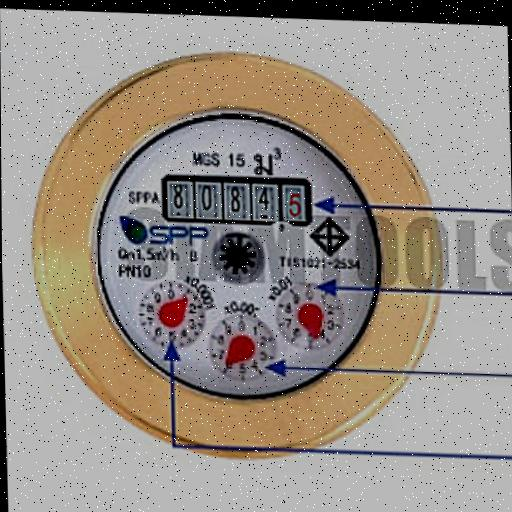0: (199, 186, 216, 220)
4: (257, 188, 274, 221)
5: (287, 189, 304, 220)
8: (170, 185, 189, 218), (227, 186, 246, 219)
border_water_meter_number: (161, 171, 314, 231)
